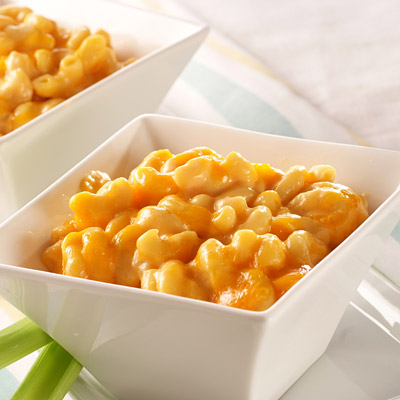macncheese: (30, 147, 370, 309), (2, 1, 138, 126)
